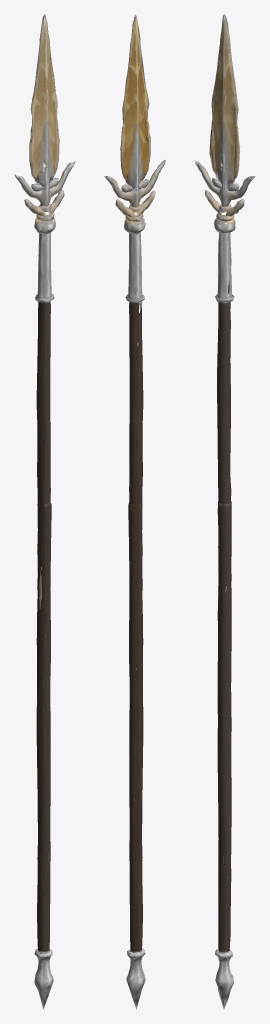
The model's file is glaive.glb.
3 views of the same model, side by side, from view 1: azimuth 30°, elevation 25°; view 2: azimuth 210°, elevation 25°; view 3: azimuth 330°, elevation 25° (orthographic).
Bounding box in the file's own units: 0.0646 × 0.9992 × 0.0198.
Materials: 1 (1 with a texture image).
